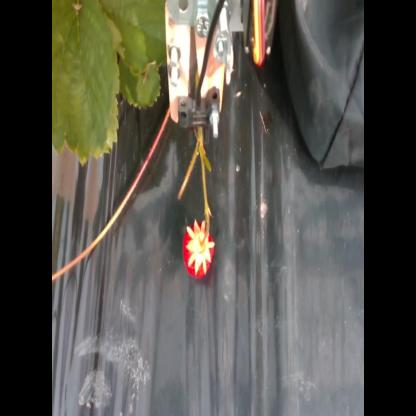ripe: (180, 212, 218, 280)
